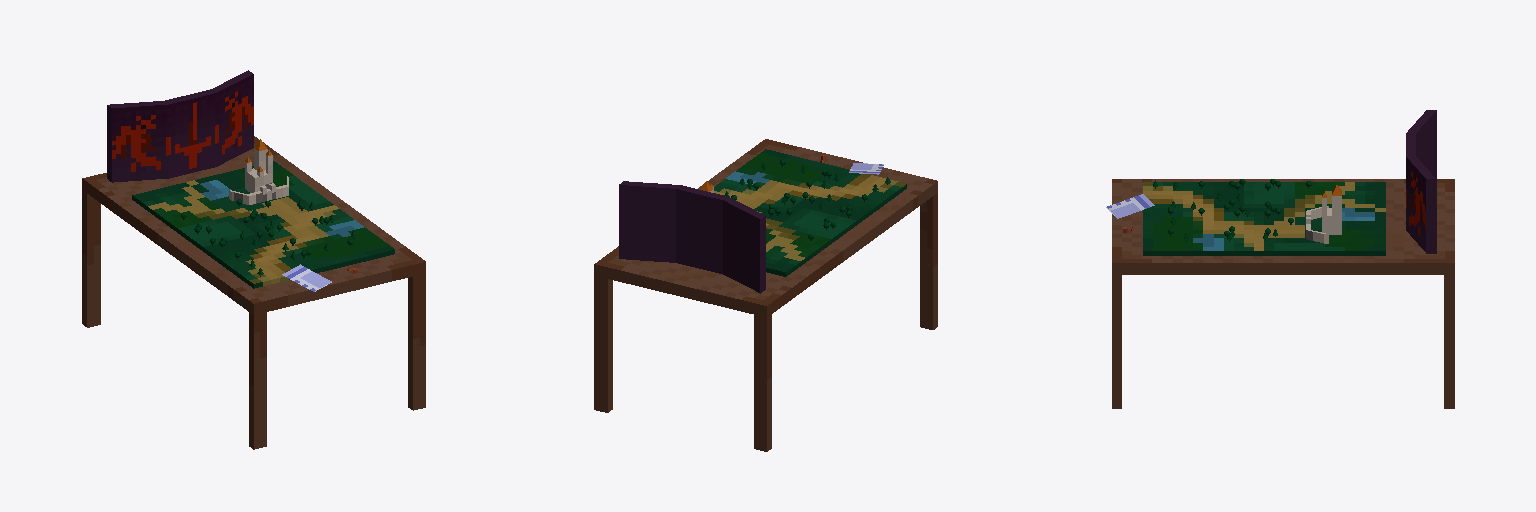
3 renders of one model, left to right at view 1: azimuth 30°, elevation 25°; view 2: azimuth 150°, elevation 25°; view 3: azimuth 270°, elevation 25°, orthographic.
Visible parts, largest first — view 1: map, curtain, table, cuboid, sphere, list; view 2: curtain, table, map, cuboid, sphere; view 3: map, table, cuboid, curtain, sphere, list.
Boxes of the visible parts, <box> form: map: <box>132,161,394,288</box>; curtain: <box>107,70,253,182</box>; table: <box>82,136,425,314</box>; cuboid: <box>82,148,425,449</box>; sphere: <box>181,199,352,257</box>; list: <box>282,264,331,291</box>; curtain: <box>619,181,765,293</box>; table: <box>594,139,937,317</box>; map: <box>714,149,906,276</box>; cuboid: <box>594,165,937,451</box>; sphere: <box>731,159,867,239</box>; map: <box>1143,182,1385,255</box>; table: <box>1112,179,1454,274</box>; cuboid: <box>1112,185,1454,408</box>; curtain: <box>1406,110,1436,253</box>; sphere: <box>1168,179,1311,236</box>; list: <box>1106,194,1154,218</box>.
Size of the model in its own units: 1.22 by 1.5 by 2.13.
7 materials, 7 textured.